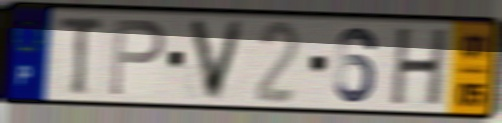2: (251, 19, 304, 106)
6: (333, 24, 379, 105)
H: (387, 26, 452, 110)
P: (107, 15, 168, 99)
T: (58, 14, 107, 98)
V: (185, 16, 249, 104)
